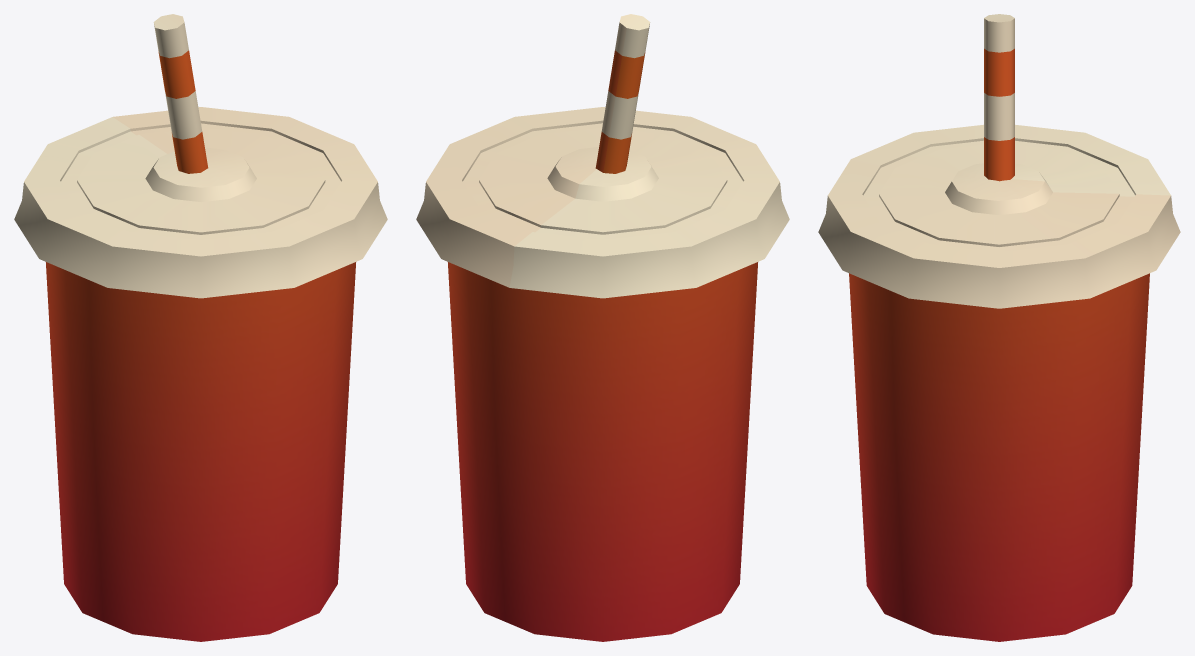
Rendered from Drink.fbx.
3 views of the same model, side by side, from view 1: azimuth 30°, elevation 25°; view 2: azimuth 150°, elevation 25°; view 3: azimuth 270°, elevation 25° (orthographic). The views are drawn at different scales.
Parts seen in each view (by area): view 1: Drink; view 2: Drink; view 3: Drink.
Part boxes in pixels (x1,y1,x2,y2): Drink: [14, 14, 387, 641]; Drink: [416, 14, 789, 641]; Drink: [818, 14, 1180, 641].
Bounding box in the file's own units: 0.167 × 0.167 × 0.2821.
